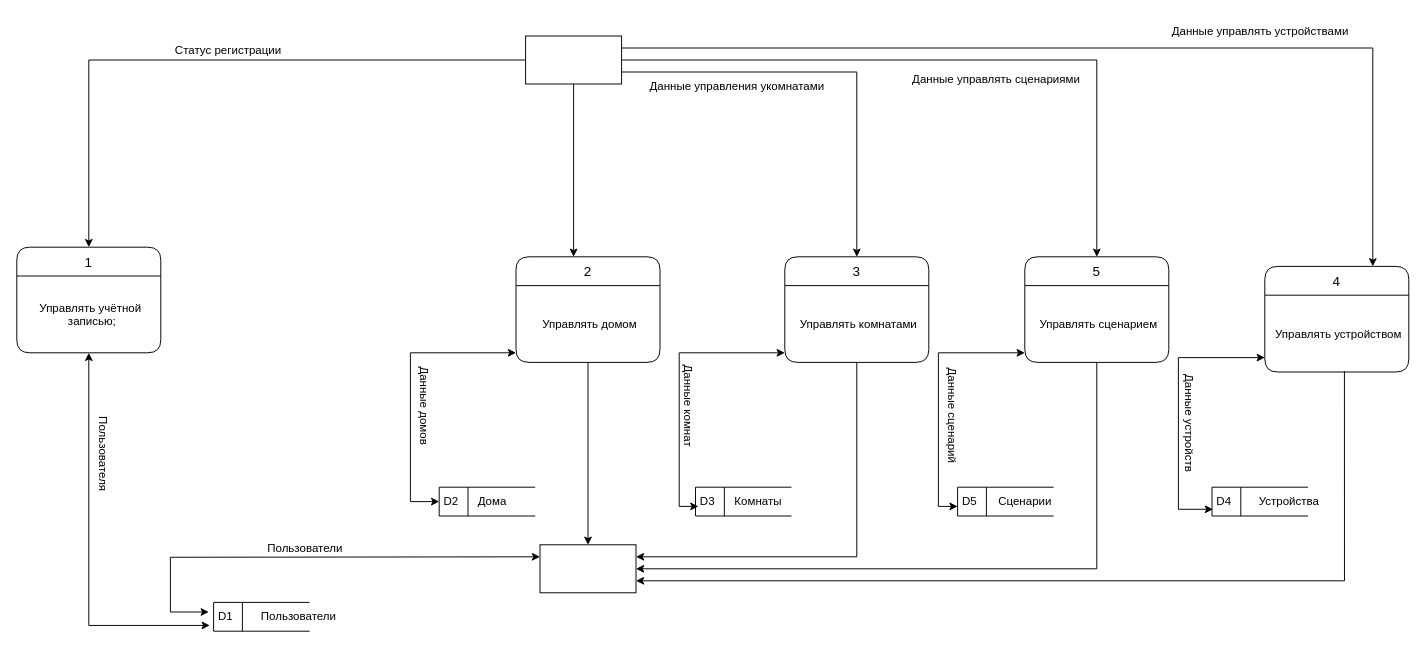
The diagram is 1426 pixels wide and 651 high, and some of its shapes have lost their labels. Here are the shapes that lost their labels. From the top down, the centre of each, then its label:
pixel 573 59: Пользователь
pixel 587 568: Устройство
